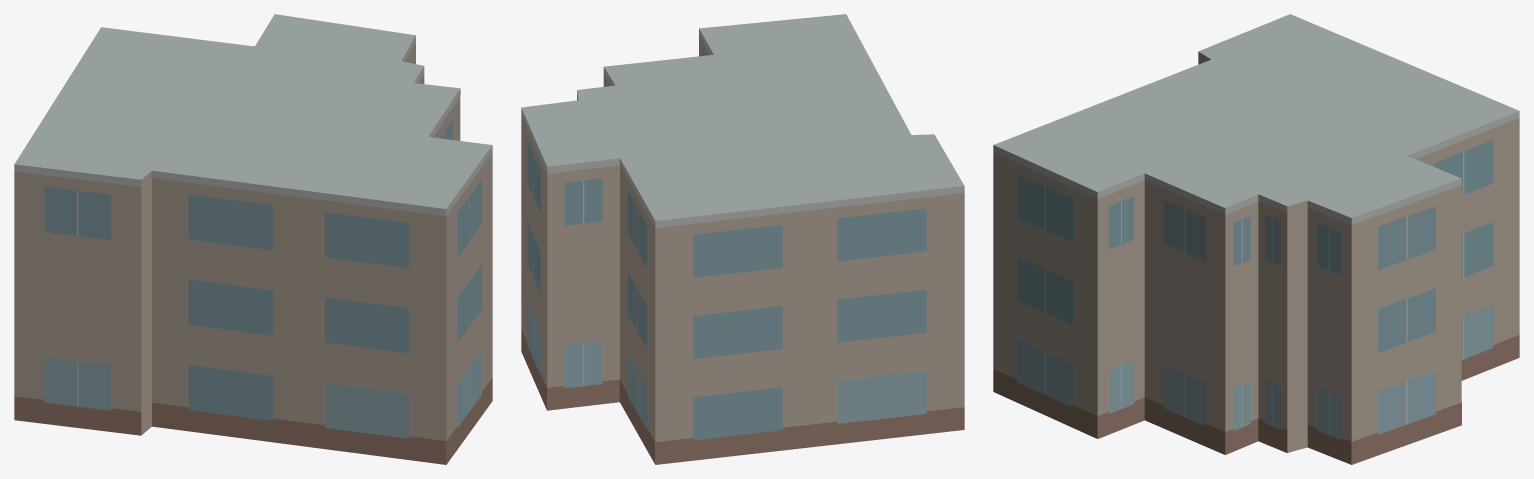
File: survey-upis-32989124.glb
3 renders of one model, left to right at view 1: azimuth 30°, elevation 25°; view 2: azimuth 150°, elevation 25°; view 3: azimuth 270°, elevation 25°, orthographic. The views are drawn at different scales.
Visible parts, largest first — view 1: survey-upis-32989124.tmp; view 2: survey-upis-32989124.tmp; view 3: survey-upis-32989124.tmp.
Boxes of the visible parts, bbox=[...] form: survey-upis-32989124.tmp: bbox=[14, 14, 492, 464]; survey-upis-32989124.tmp: bbox=[521, 14, 964, 464]; survey-upis-32989124.tmp: bbox=[993, 14, 1519, 464].
Bounding box in the file's own units: 15.25 × 8.6 × 16.62.
